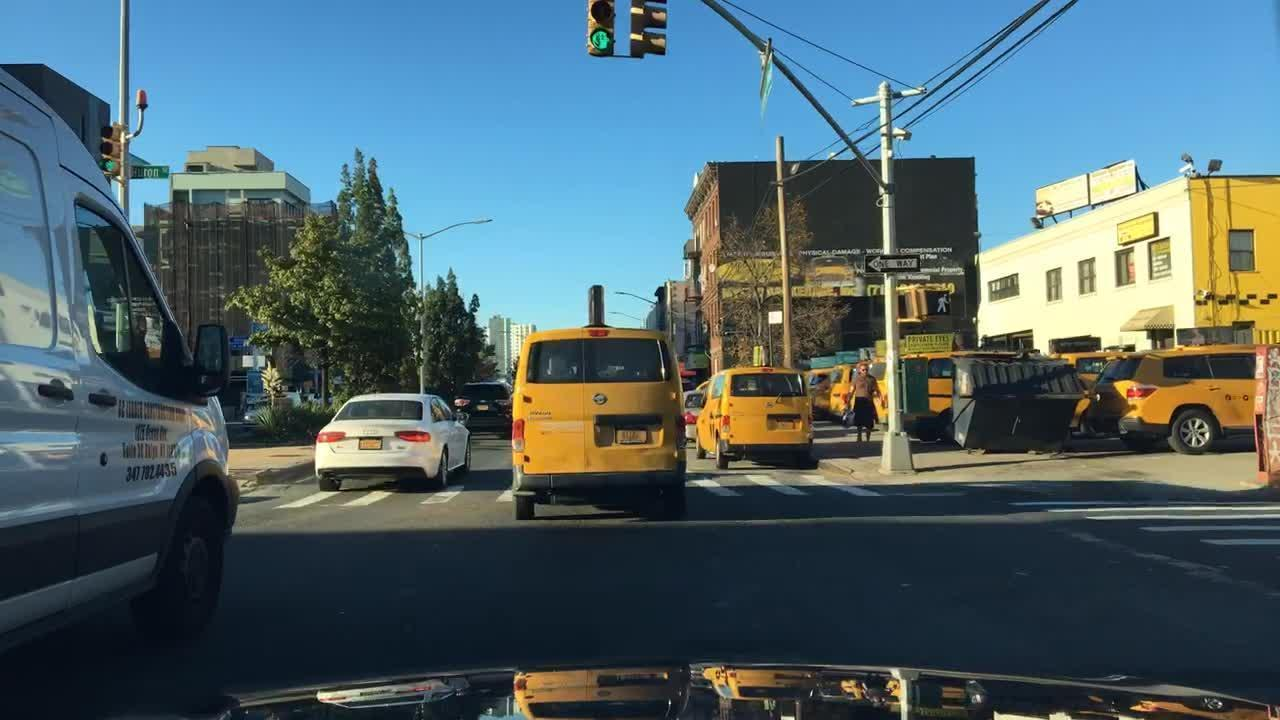Audi: (358, 426, 387, 441)
Nissan: (584, 389, 622, 414)
